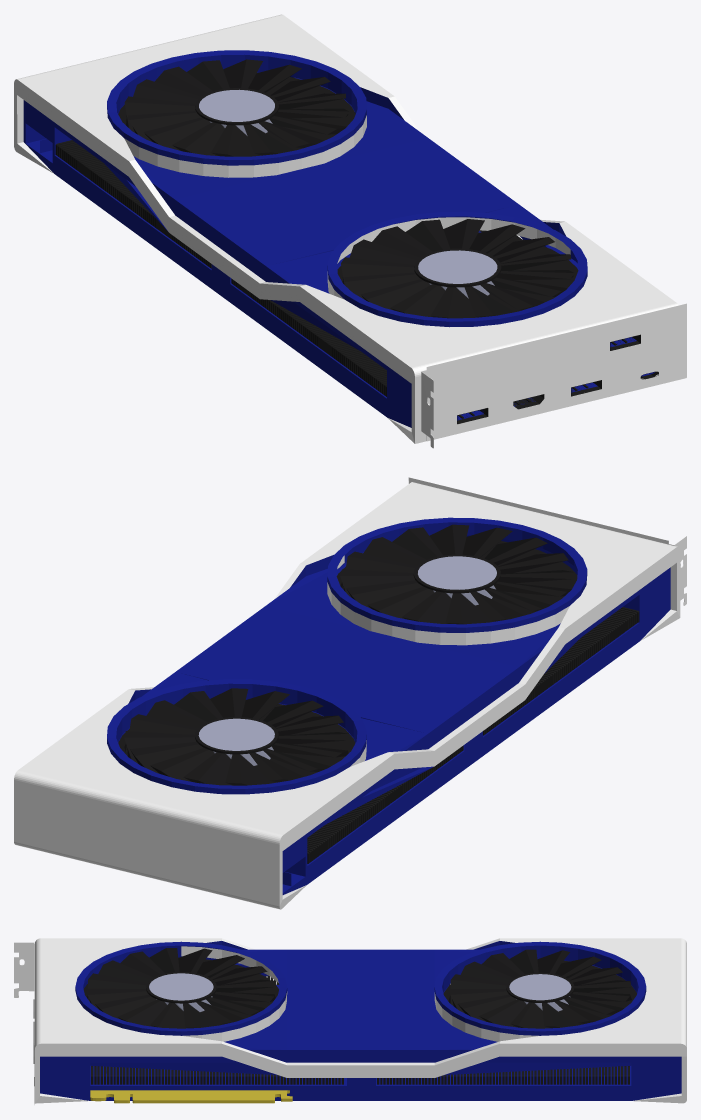
3 renders of one model, top to bottom at view 1: azimuth 30°, elevation 25°; view 2: azimuth 150°, elevation 25°; view 3: azimuth 270°, elevation 25°, orthographic. The views are drawn at different scales.
Visible parts, largest first — view 1: GPU, Fans, Silver, Panel, Heatsink, Ports; view 2: GPU, Silver, Fans, Heatsink, Panel; view 3: GPU, Silver, Fans, Heatsink, Slot, Panel.
Part boxes in pixels (x1,y1,x2,y2): GPU: (23,50,654,427); Fans: (118,59,578,318); Silver: (14,14,678,443); Panel: (421,303,686,448); Heatsink: (55,140,521,396); Ports: (457,334,658,424); GPU: (107,517,670,894); Silver: (14,482,680,909); Fans: (118,524,577,785); Heatsink: (307,607,639,863); Panel: (408,477,686,605); GPU: (40,941,681,1100); Silver: (34,938,686,1103); Fans: (83,948,636,1028); Heatsink: (91,976,629,1084); Slot: (90,1090,292,1103); Panel: (14,942,34,1104).
Bounding box in the file's own units: 16.5 × 4.38 × 41.57.
